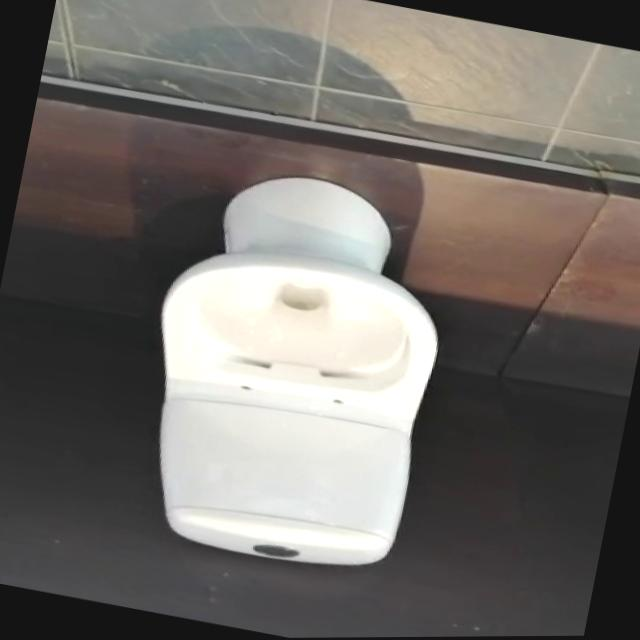toilet: (117, 154, 467, 584)
